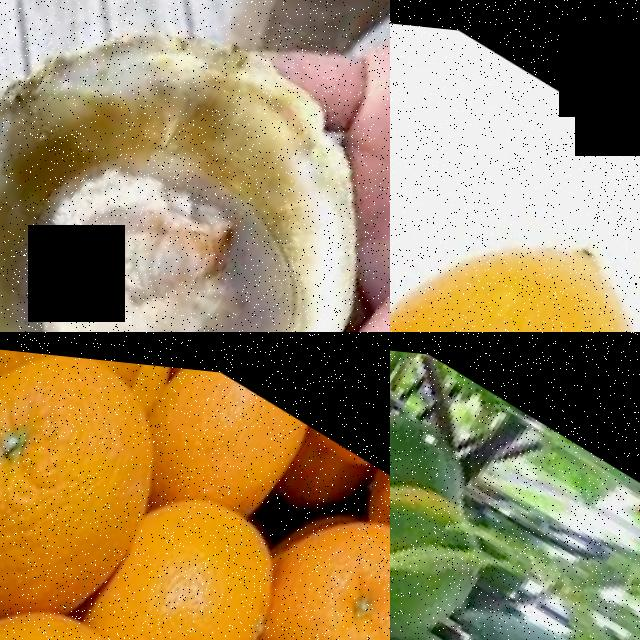orange: (0, 339, 207, 625), (390, 144, 640, 332), (75, 459, 316, 640), (126, 357, 326, 515), (239, 476, 390, 640), (390, 30, 448, 332)
oysters: (0, 0, 390, 332)
pawpaw: (390, 441, 499, 640)
